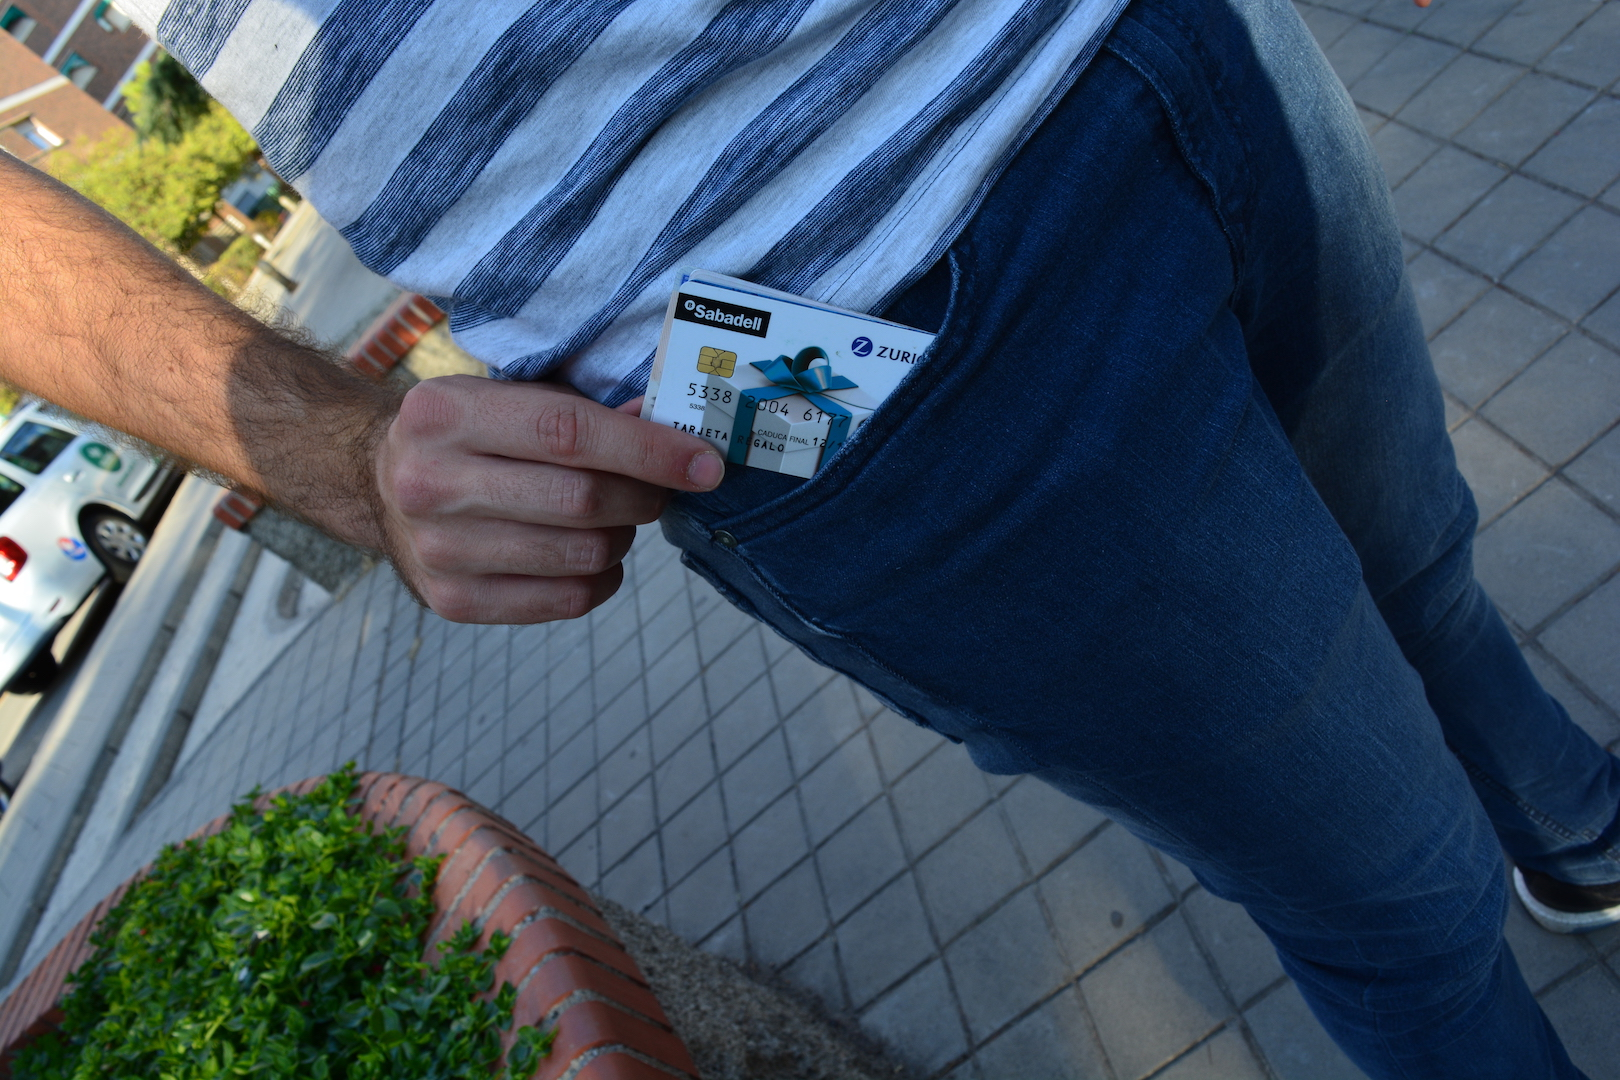tarjeta: (628, 268, 940, 485)
